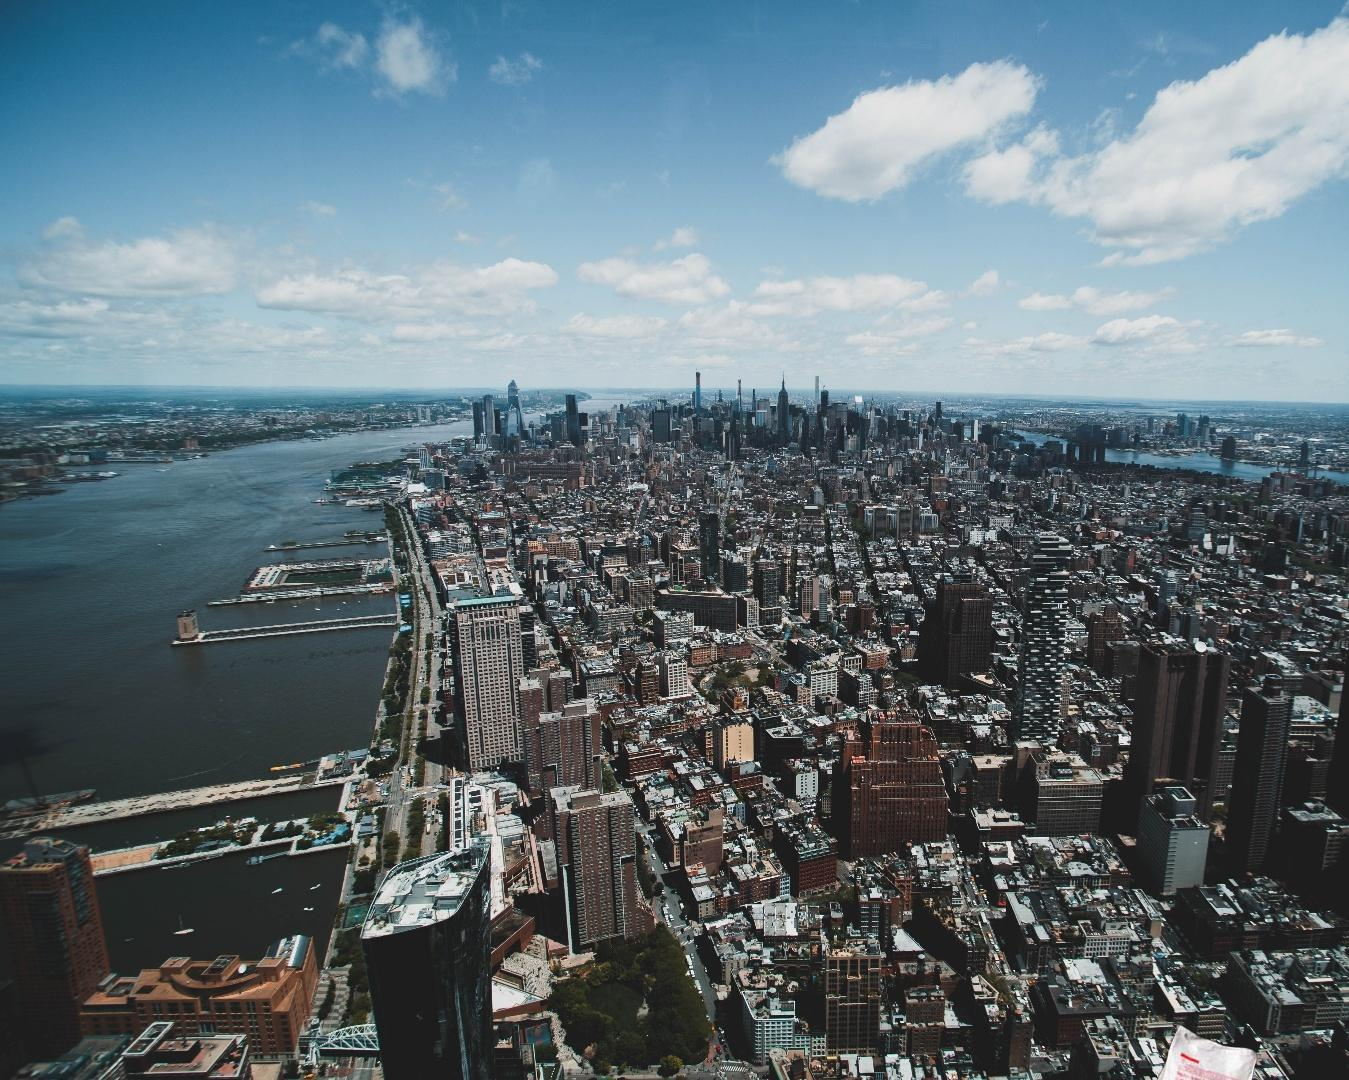plastic-bag: (1129, 1020, 1259, 1080)
